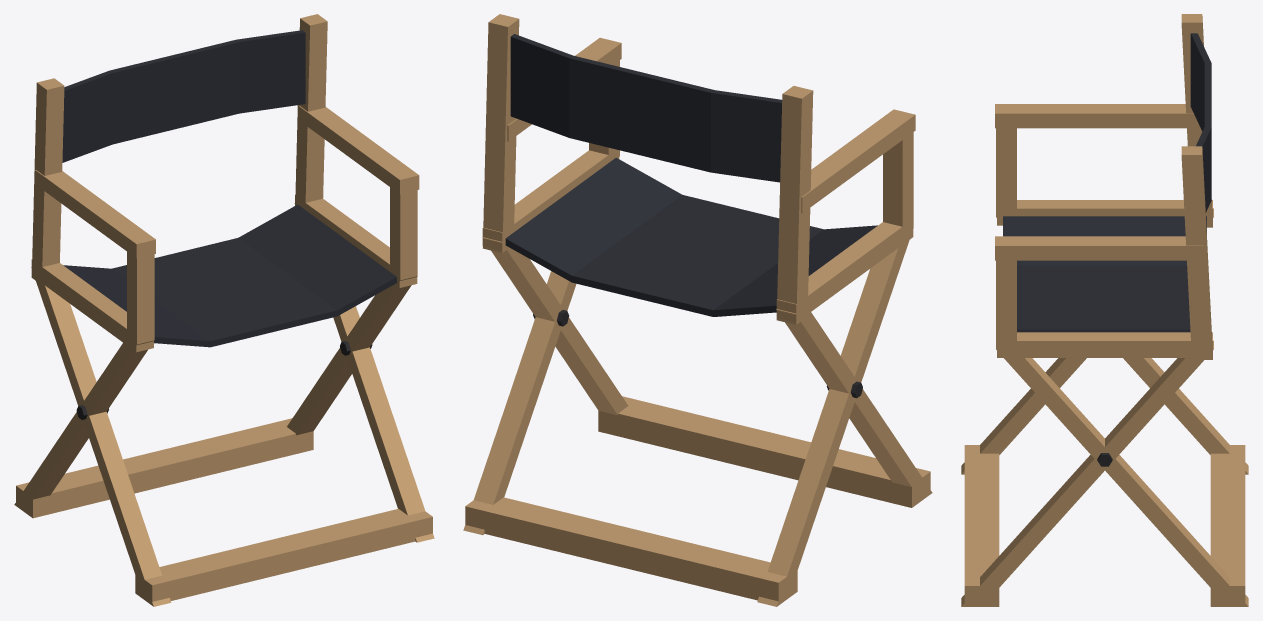
File: FN_Chair_Directors.glb
3 views of the same model, side by side, from view 1: azimuth 30°, elevation 25°; view 2: azimuth 150°, elevation 25°; view 3: azimuth 270°, elevation 25° (orthographic). The views are drawn at different scales.
Parts seen in each view (by area): view 1: FN_Chair_Directors; view 2: FN_Chair_Directors; view 3: FN_Chair_Directors.
Part boxes in pixels (box(x1,y1,x2,y2)): FN_Chair_Directors: box(14, 14, 434, 606); FN_Chair_Directors: box(463, 14, 932, 606); FN_Chair_Directors: box(961, 14, 1248, 606).
Bounding box in the file's own units: 0.592 × 0.86 × 0.496.
Materials: 1 (1 with a texture image).
